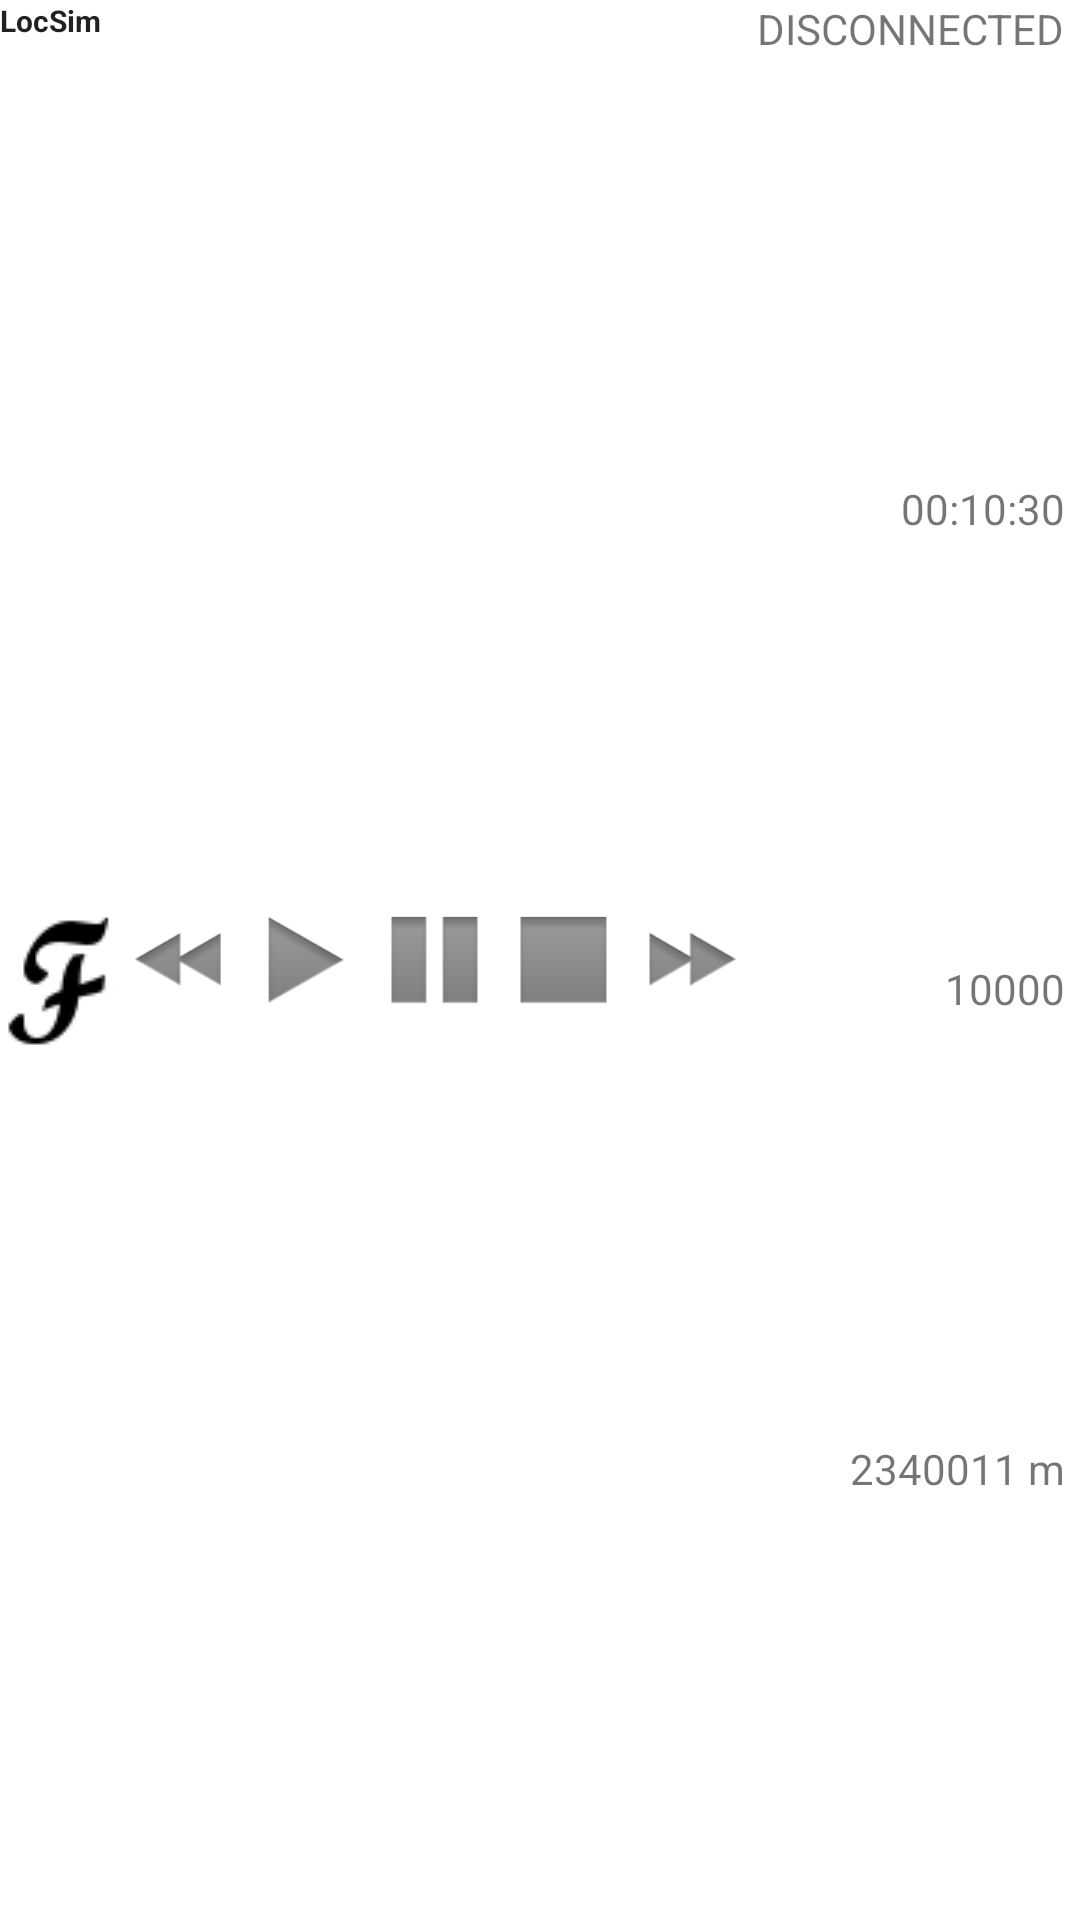

Named icons in this screenshot (1080 × 1920) and their bounding boxes, box(x1, y1, x2, y2):
tran faster: box(649, 933, 736, 986)
tran pause: box(391, 917, 478, 1003)
tran slower: box(135, 933, 221, 985)
tran start: box(268, 917, 343, 1003)
tran stop: box(520, 917, 607, 1003)
